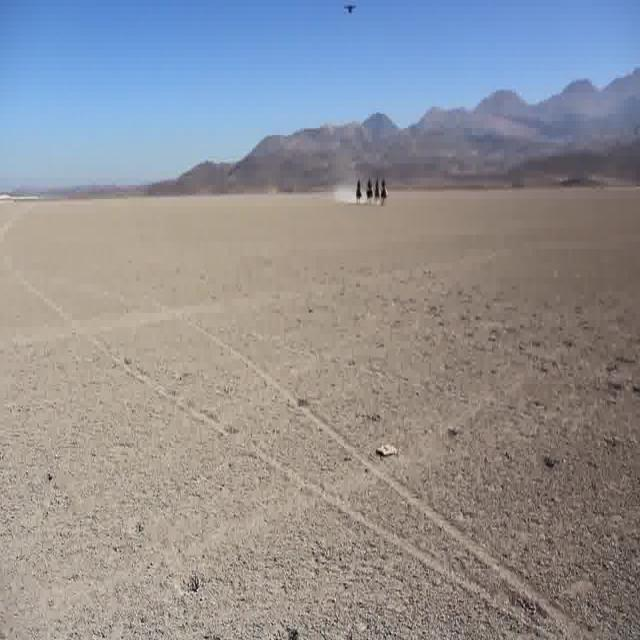drone: (342, 0, 358, 15)
